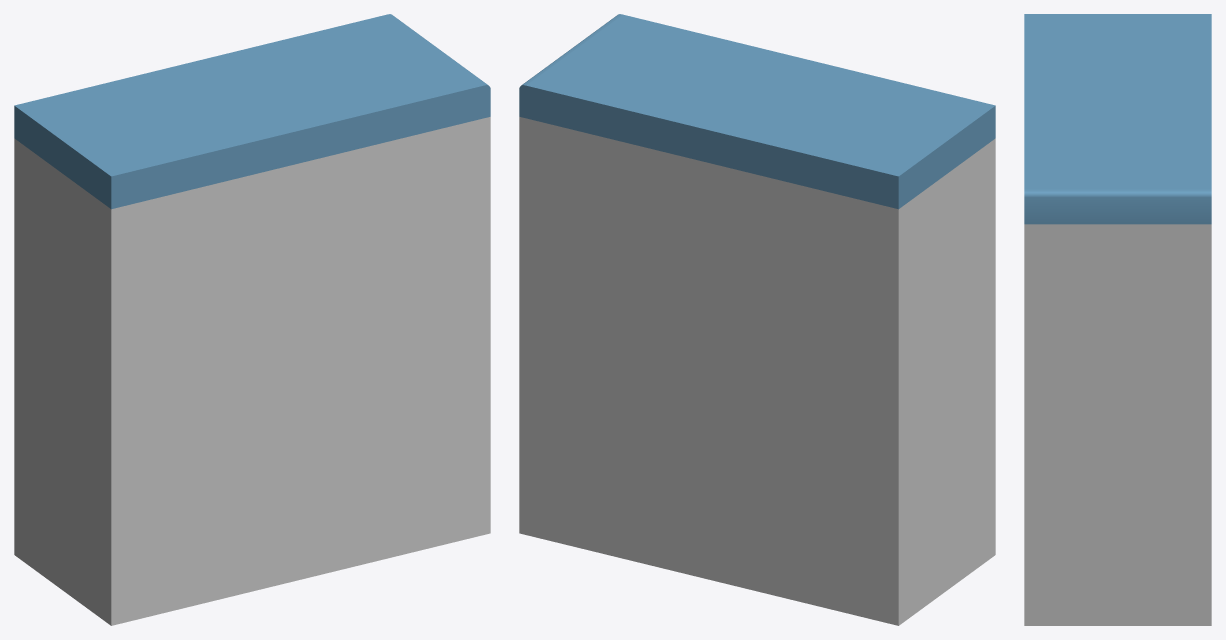
The model's file is stove_counter01.FBX.
3 views of the same model, side by side, from view 1: azimuth 30°, elevation 25°; view 2: azimuth 150°, elevation 25°; view 3: azimuth 270°, elevation 25° (orthographic). The views are drawn at different scales.
Parts seen in each view (by area): view 1: stove_counter002, Object003; view 2: stove_counter002, Object003; view 3: stove_counter002, Object003.
Part boxes in pixels (left/top/right/bottom): stove_counter002: left=14, top=117, right=490, bottom=625; Object003: left=14, top=14, right=490, bottom=209; stove_counter002: left=519, top=117, right=995, bottom=625; Object003: left=519, top=14, right=995, bottom=209; stove_counter002: left=1024, top=224, right=1211, bottom=625; Object003: left=1024, top=14, right=1211, bottom=224.
Size of the model in its own units: 1925 by 2178 by 852.
